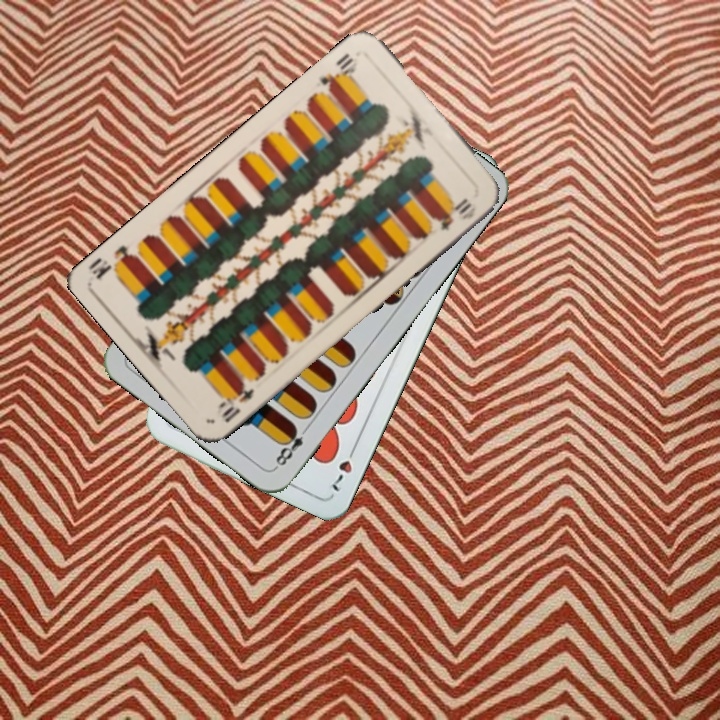E10: (316, 48, 361, 95), (213, 378, 257, 425)
E8: (271, 421, 313, 471)
H7: (327, 440, 359, 494)
